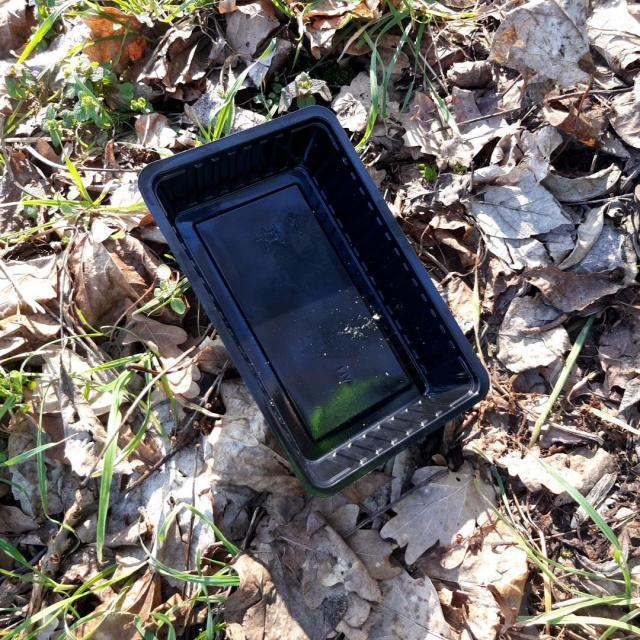Plastic: (134, 101, 492, 502)
